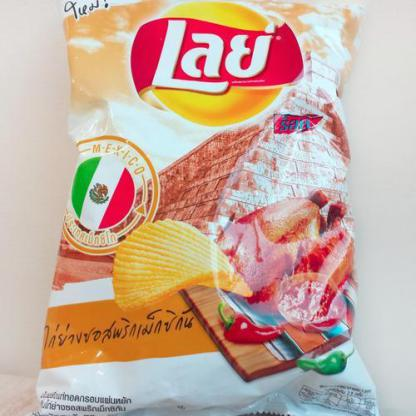potatochip: (29, 0, 384, 415)
